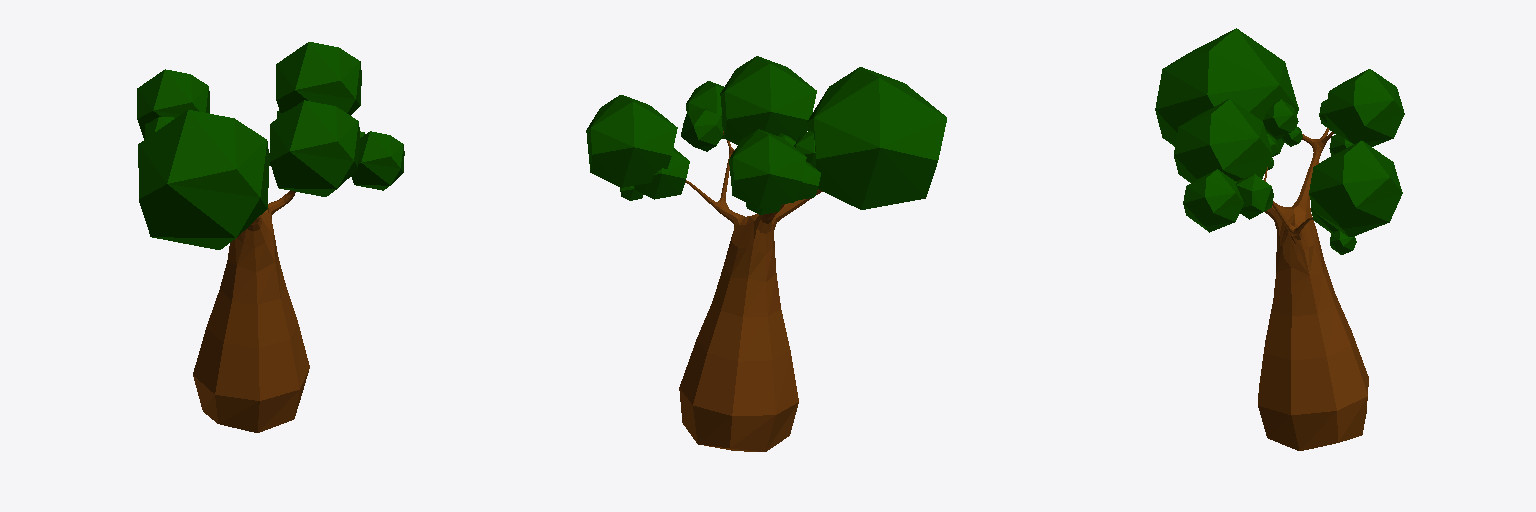
Rendered from Planta04.obj.
3 renders of one model, left to right at view 1: azimuth 30°, elevation 25°; view 2: azimuth 150°, elevation 25°; view 3: azimuth 270°, elevation 25°, orthographic.
Parts seen in each view (by area): view 1: Plane.003, Icosphere.032, Icosphere.028, Icosphere.024, Icosphere.019, Icosphere.029; view 2: Plane.003, Icosphere.032, Icosphere.024, Icosphere.028, Icosphere.019, Icosphere.027, Icosphere.025, Icosphere.029, Icosphere.021; view 3: Plane.003, Icosphere.032, Icosphere.024, Icosphere.028, Icosphere.019, Icosphere.029, Icosphere.027, Icosphere.022.
Part boxes in pixels (bbox=[...]): Plane.003: bbox=[193, 191, 309, 432]; Icosphere.032: bbox=[138, 110, 269, 249]; Icosphere.028: bbox=[270, 100, 359, 196]; Icosphere.024: bbox=[276, 42, 361, 115]; Icosphere.019: bbox=[137, 69, 209, 139]; Icosphere.029: bbox=[351, 131, 404, 190]; Plane.003: bbox=[679, 131, 822, 451]; Icosphere.032: bbox=[807, 67, 946, 209]; Icosphere.024: bbox=[586, 95, 677, 187]; Icosphere.028: bbox=[720, 56, 816, 144]; Icosphere.019: bbox=[729, 129, 806, 208]; Icosphere.027: bbox=[681, 108, 722, 151]; Icosphere.025: bbox=[634, 148, 689, 199]; Icosphere.029: bbox=[686, 81, 724, 138]; Icosphere.021: bbox=[796, 162, 820, 200]; Plane.003: bbox=[1258, 128, 1368, 450]; Icosphere.032: bbox=[1155, 28, 1298, 155]; Icosphere.024: bbox=[1309, 140, 1402, 236]; Icosphere.028: bbox=[1174, 99, 1272, 182]; Icosphere.019: bbox=[1325, 69, 1404, 146]; Icosphere.029: bbox=[1183, 169, 1243, 232]; Icosphere.027: bbox=[1236, 174, 1273, 219]; Icosphere.022: bbox=[1263, 99, 1298, 139].
Bounding box in the file's own units: 9.63 × 11.77 × 7.24.